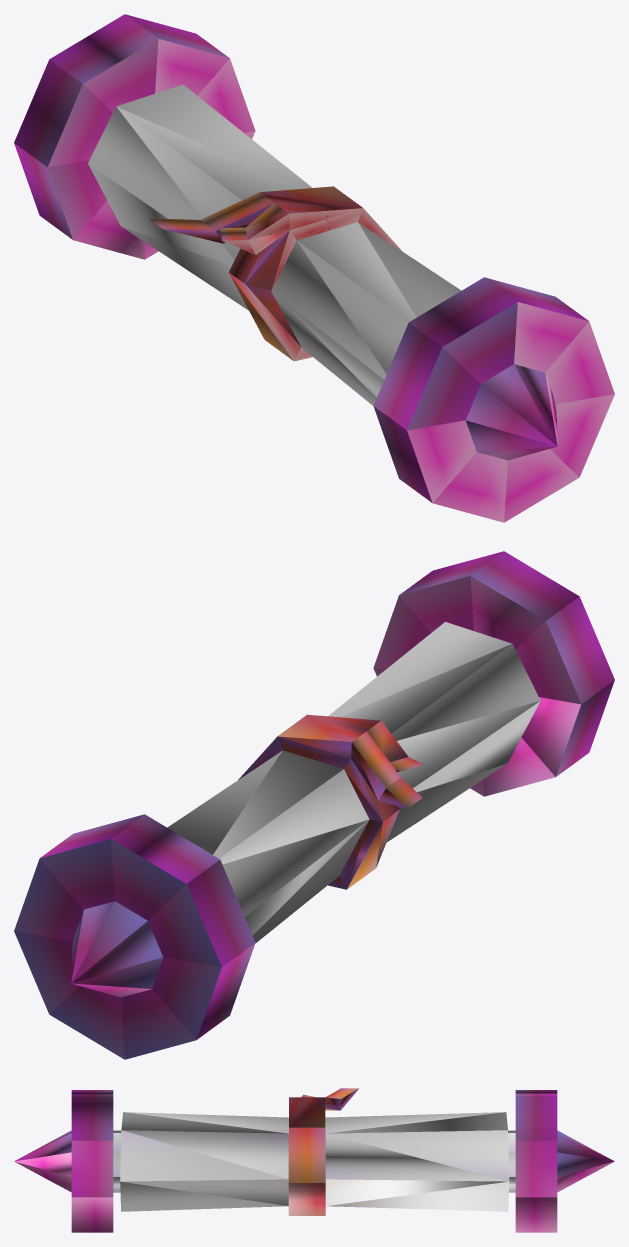
The model's file is message02.fbx.
3 views of the same model, one above another, from view 1: azimuth 30°, elevation 25°; view 2: azimuth 150°, elevation 25°; view 3: azimuth 270°, elevation 25° (orthographic). The views are drawn at different scales.
Visible parts, largest first — view 1: message02; view 2: message02; view 3: message02.
Part boxes in pixels (<box>): message02: <box>14,14,614,522</box>; message02: <box>14,551,614,1059</box>; message02: <box>14,1088,614,1232</box>.
Size of the model in its own units: 34.88 by 30.99 by 126.
